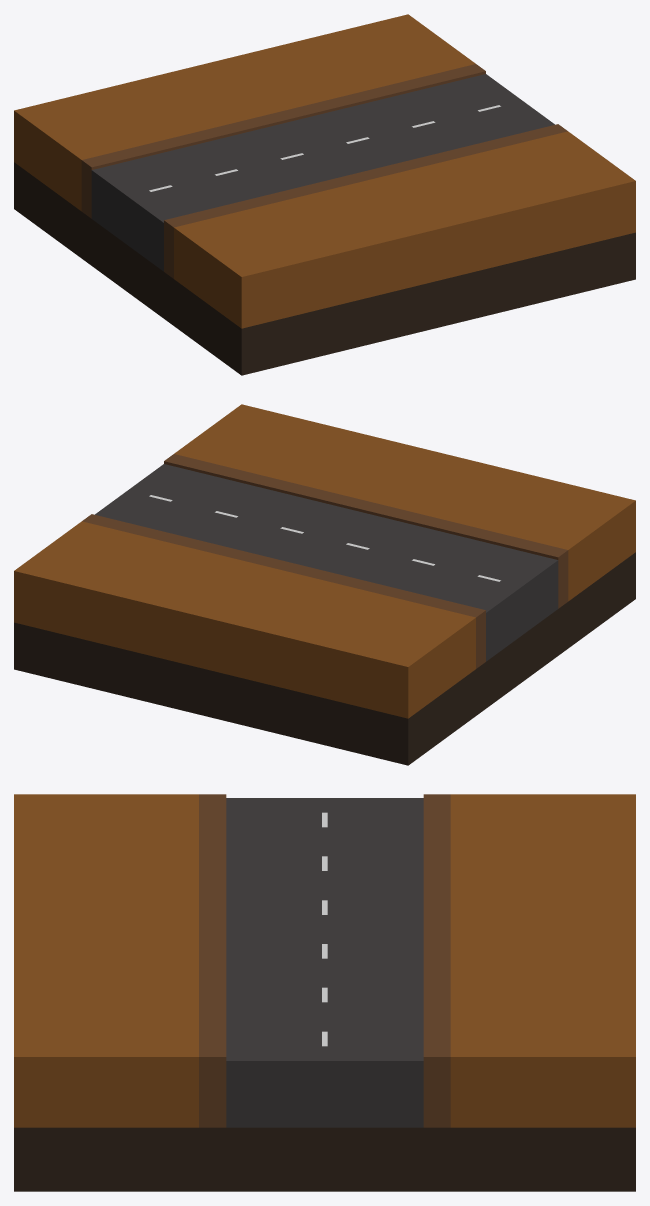
File: delh_terr_04.fbx
3 views of the same model, one above another, from view 1: azimuth 30°, elevation 25°; view 2: azimuth 150°, elevation 25°; view 3: azimuth 270°, elevation 25° (orthographic). The views are drawn at different scales.
Visible parts, largest first — view 1: delh_terr_04; view 2: delh_terr_04; view 3: delh_terr_04.
Boxes of the visible parts, x1,y1,x2,y2 form: delh_terr_04: [14, 14, 635, 375]; delh_terr_04: [14, 404, 635, 765]; delh_terr_04: [14, 794, 635, 1191].
Size of the model in its own units: 3000 by 716 by 3000.
